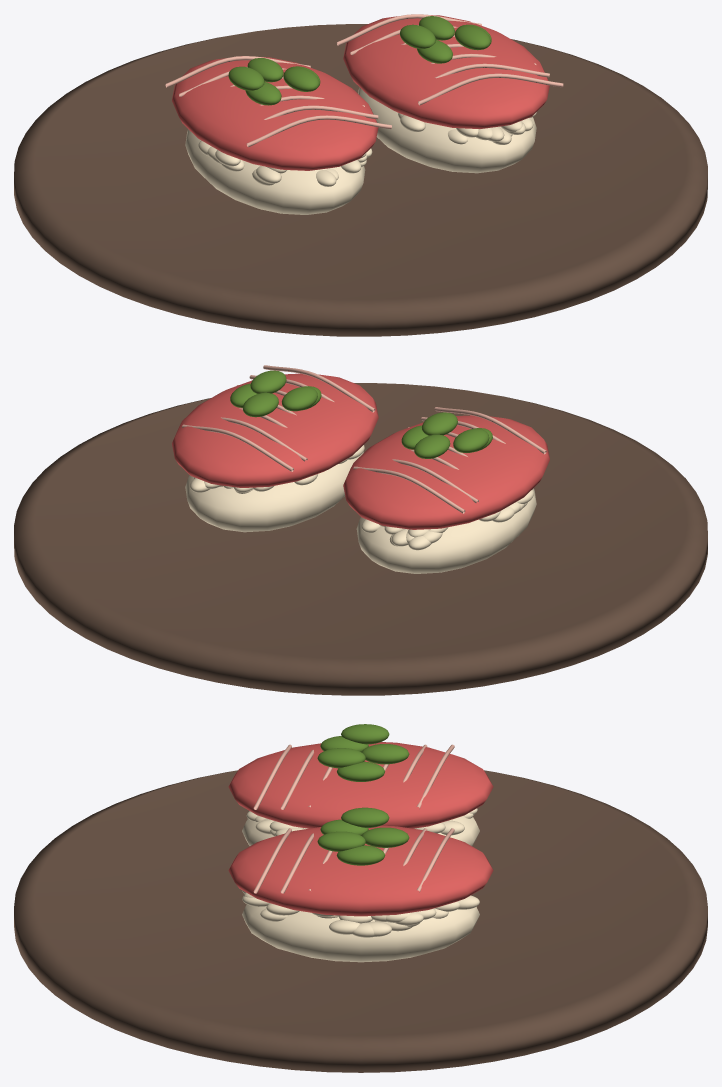
The model's file is 38-tuna-sushi.glb.
3 views of the same model, one above another, from view 1: azimuth 30°, elevation 25°; view 2: azimuth 150°, elevation 25°; view 3: azimuth 270°, elevation 25° (orthographic).
Parts seen in each view (by area): view 1: 참치 아카미 초밥; view 2: 참치 아카미 초밥; view 3: 참치 아카미 초밥.
Boxes of the visible parts, bbox=[...] form: 참치 아카미 초밥: bbox=[14, 14, 707, 336]; 참치 아카미 초밥: bbox=[14, 365, 707, 695]; 참치 아카미 초밥: bbox=[14, 724, 707, 1072].
Size of the model in its own units: 2 by 0.521 by 2.
